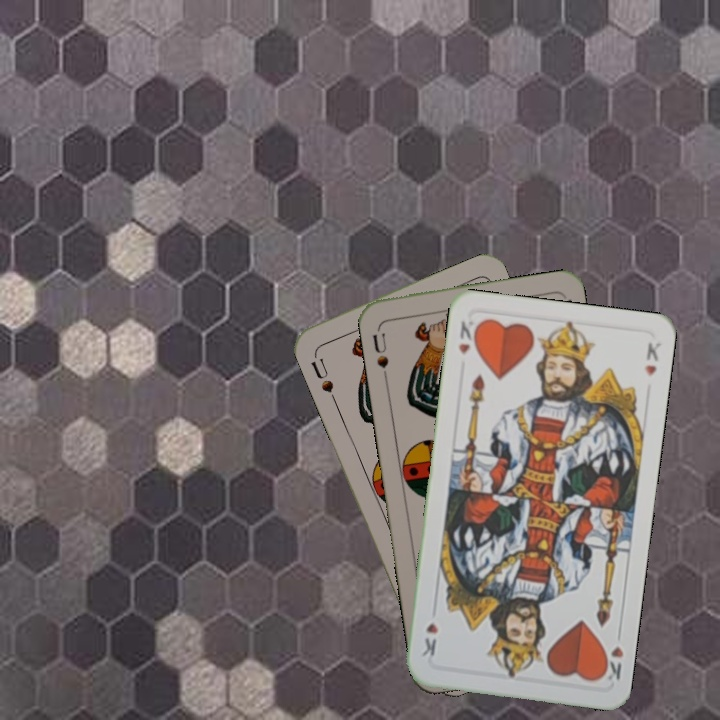HK: (597, 626, 626, 685), (454, 316, 482, 357)
SU: (307, 349, 339, 405), (368, 329, 391, 382)
